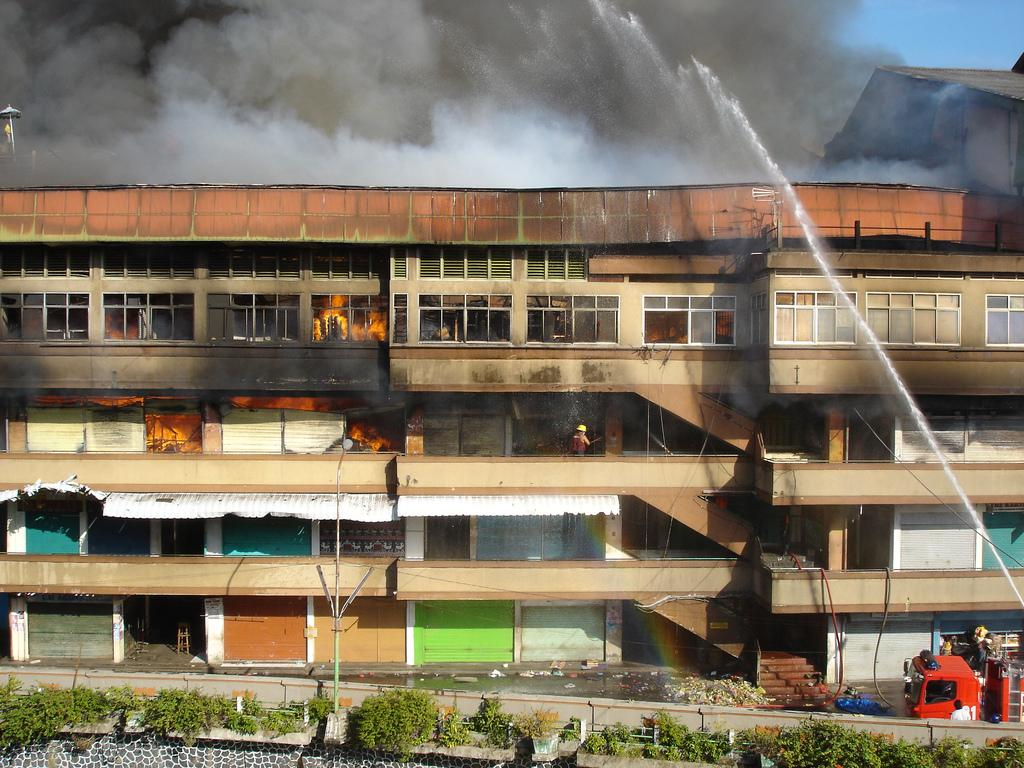fire: (142, 404, 208, 456), (228, 386, 328, 416), (316, 294, 388, 334), (344, 416, 388, 458)
smoke: (24, 14, 670, 148)
